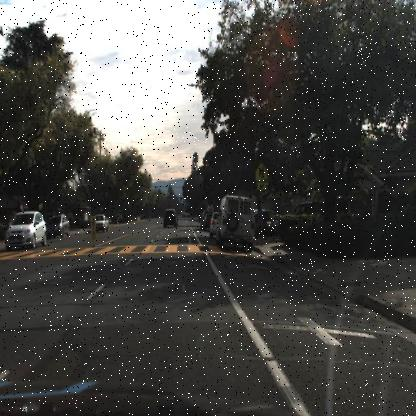car: (218, 193, 255, 252), (6, 209, 47, 250), (47, 216, 71, 240), (159, 203, 178, 231), (160, 206, 180, 231), (209, 210, 221, 243), (92, 213, 110, 234), (198, 211, 212, 231)
